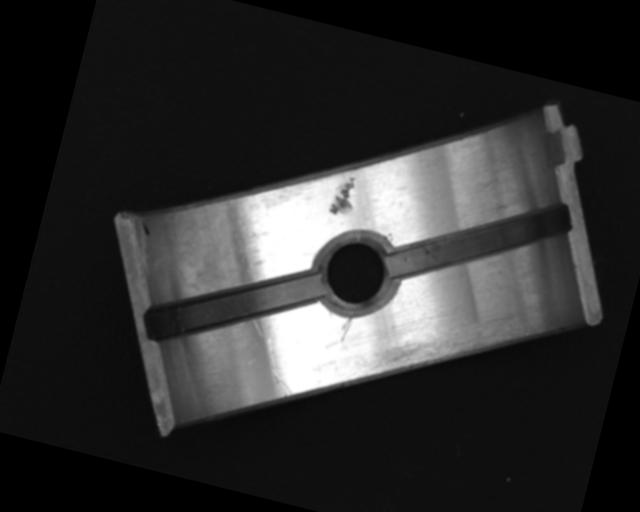blot: (135, 218, 154, 237)
bruise: (327, 173, 358, 218)
gap: (381, 167, 573, 316), (142, 237, 327, 375)
hole: (307, 223, 406, 321)
nick: (253, 334, 305, 397), (337, 315, 353, 343)
scratch: (369, 285, 534, 408)
